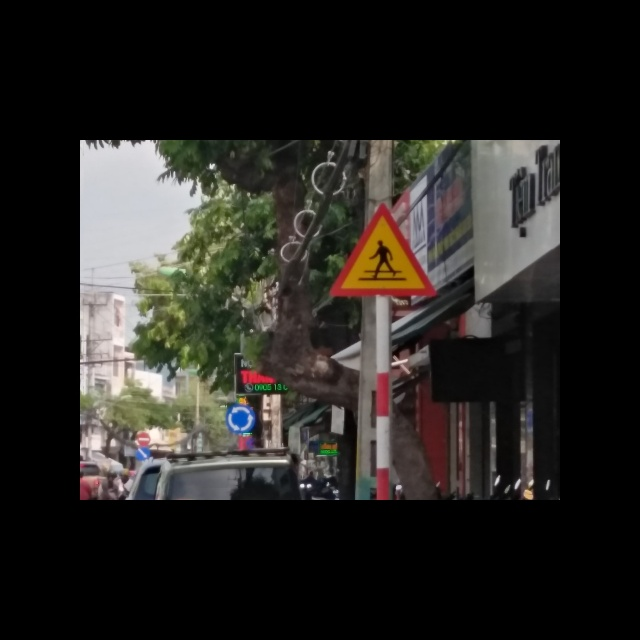Nơi giao nhau chạy theo vòng xuyến: (224, 404, 256, 433)
Đường người đi bộ sang đường: (330, 201, 437, 298)
